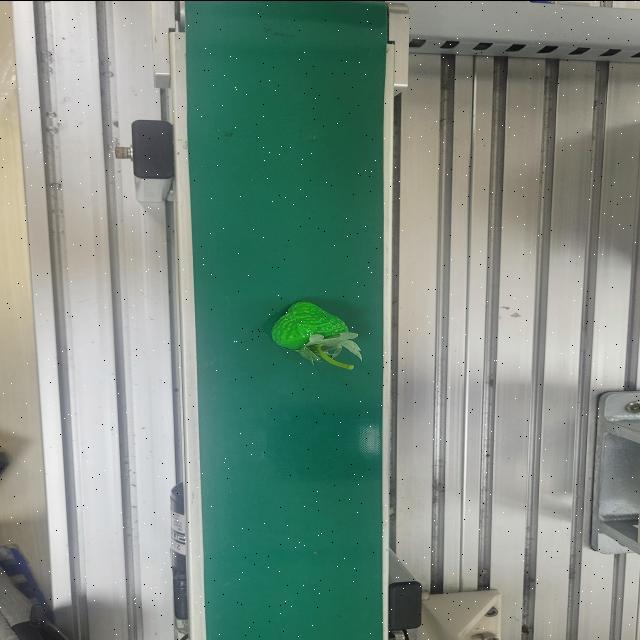Small Unripe Strawberry: (266, 299, 364, 369)
